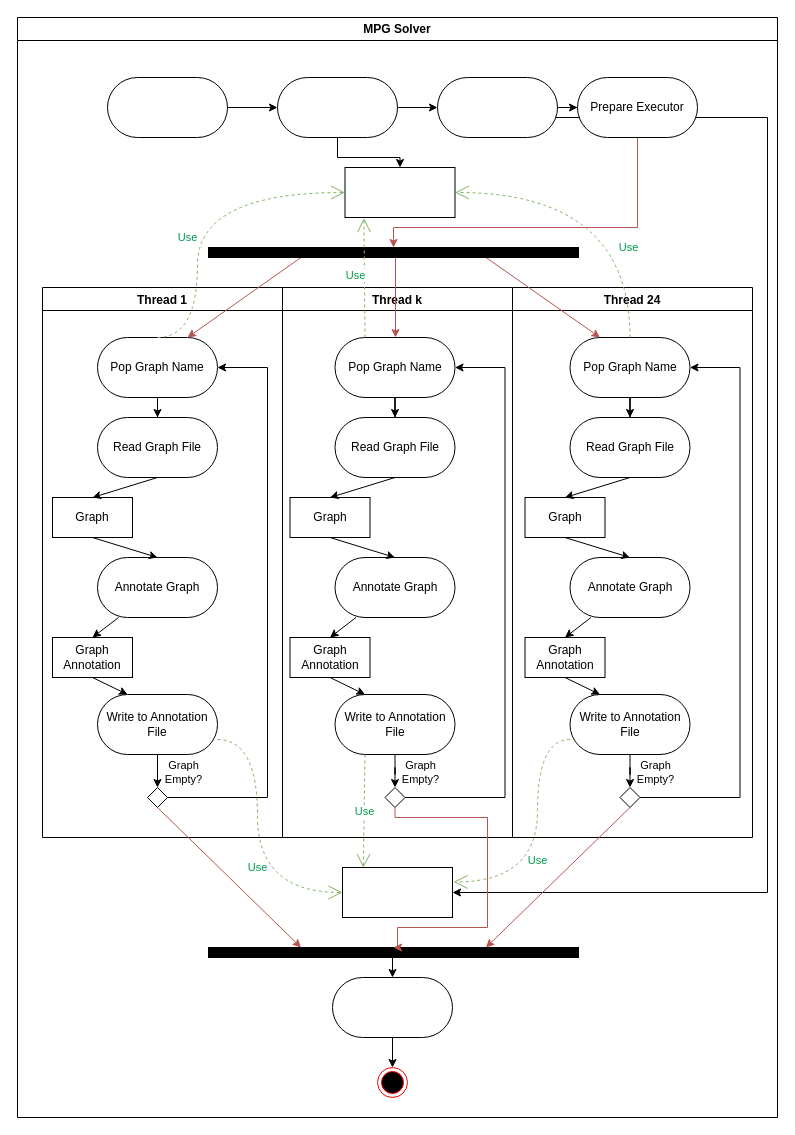
This 795x1135 diagram has some shape labels left out. Each missing label, with the centre of its shape:
Close Annotation File: point (392, 1007)
Discover Graph Files: point (337, 107)
Graph Files Queue: point (399, 192)
Parse Configuration: point (167, 107)
Prepare Synchronised File Writer: point (497, 107)
Synchronised File Writer: point (397, 892)
